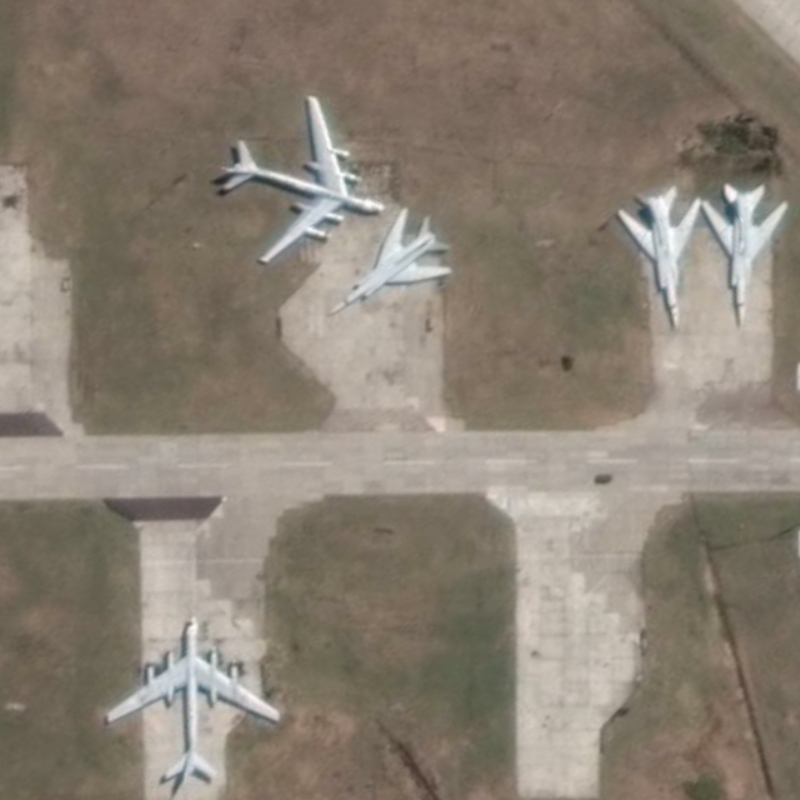A12: (326, 205, 454, 318), (700, 181, 791, 328), (615, 182, 703, 331)
A17: (103, 614, 282, 783), (219, 93, 387, 265)
